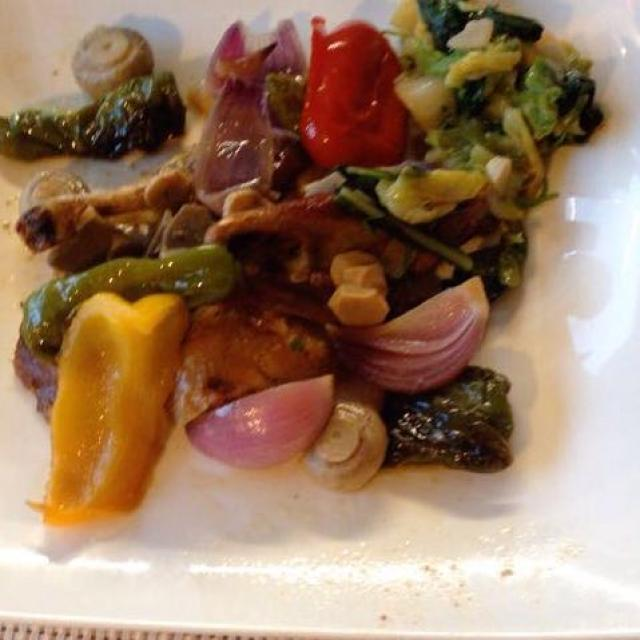bell-pepper: (25, 289, 190, 537)
mixed-vegetables: (28, 11, 594, 536)
mushroom: (294, 397, 394, 502), (61, 23, 160, 104)
onion: (325, 273, 496, 399), (178, 371, 337, 474)
tomato: (299, 12, 421, 174)
